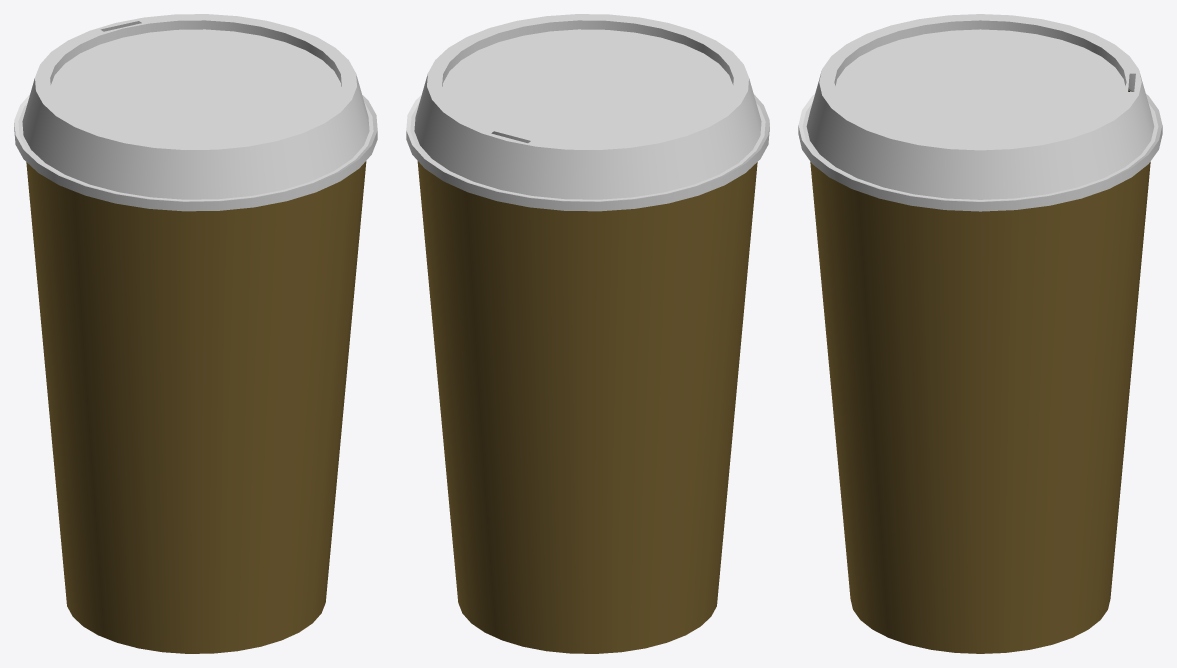
Rendered from CupOfJoe.fbx.
3 renders of one model, left to right at view 1: azimuth 30°, elevation 25°; view 2: azimuth 150°, elevation 25°; view 3: azimuth 270°, elevation 25°, orthographic.
Visible parts, largest first — view 1: Body, Cap; view 2: Body, Cap; view 3: Body, Cap.
Boxes of the visible parts, x1,y1,x2,y2 form: Body: [26, 161, 366, 653]; Cap: [14, 14, 377, 211]; Body: [417, 161, 757, 653]; Cap: [406, 14, 769, 211]; Body: [810, 90, 1150, 653]; Cap: [798, 14, 1162, 211].
Size of the model in its own units: 10.5 by 16.45 by 10.5.
